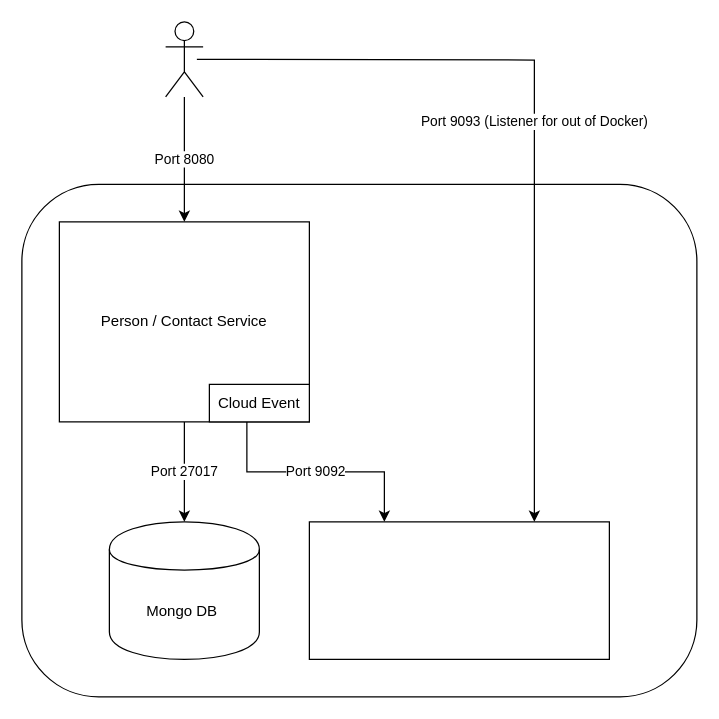
This 719x719 diagram has some shape labels left out. Here are the shapes that lost their labels. From the top down, the centre of each, then its label:
the point at 183,59: REST Client (Open API 3.0)
the point at 458,590: Kafka / Zookeeper
